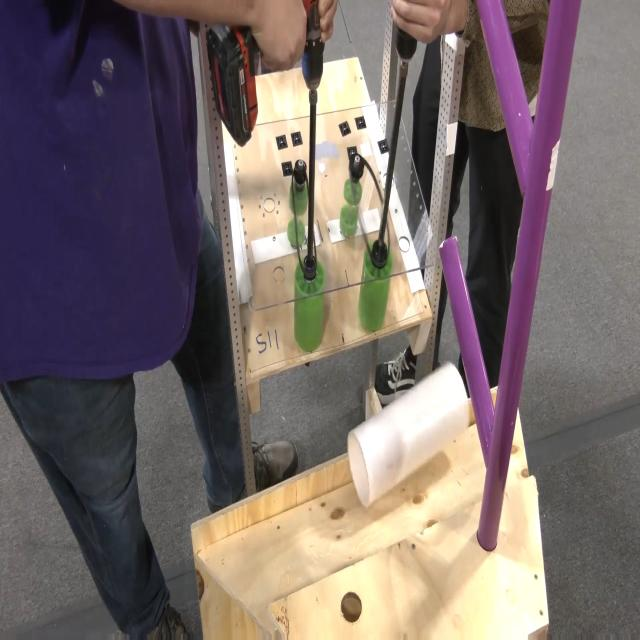Coral: (347, 362, 469, 508)
